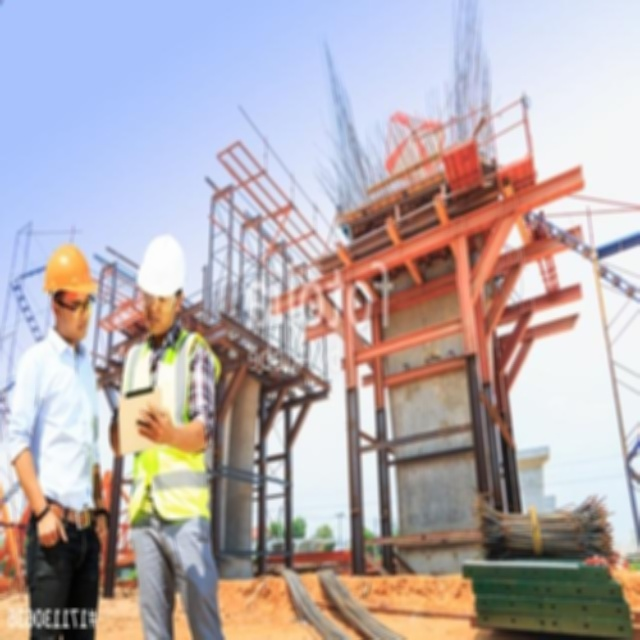Con_Chaleco: (122, 333, 206, 522)
Sin_Chaleco: (15, 341, 98, 524)
